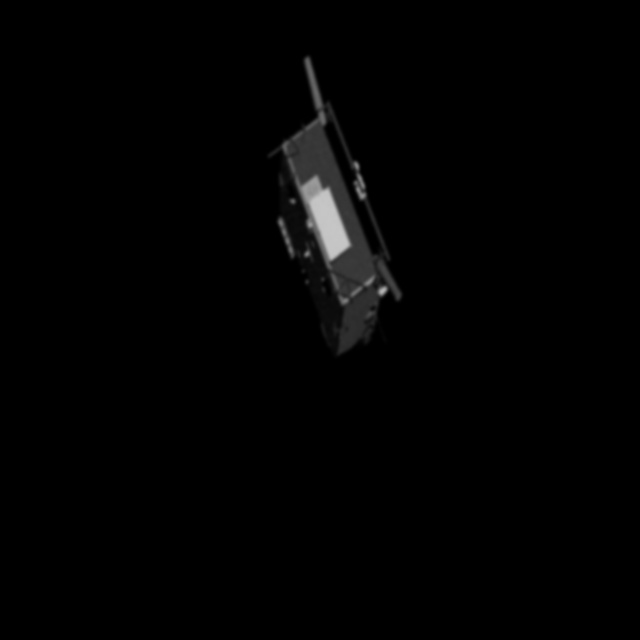satellite: (258, 52, 404, 372)
